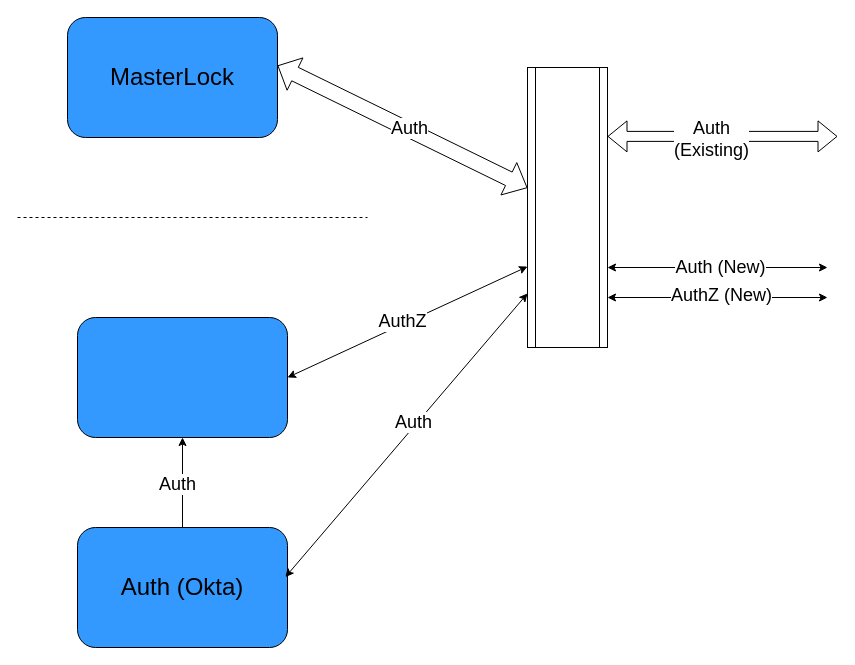
Some shapes in this 855 by 665 pixel diagram are drawn without their labels. Each missing label, with the centre of its shape:
"API Gateway (Canary)" goes at (x=567, y=207).
"Topaz | Authz" goes at (x=182, y=377).
